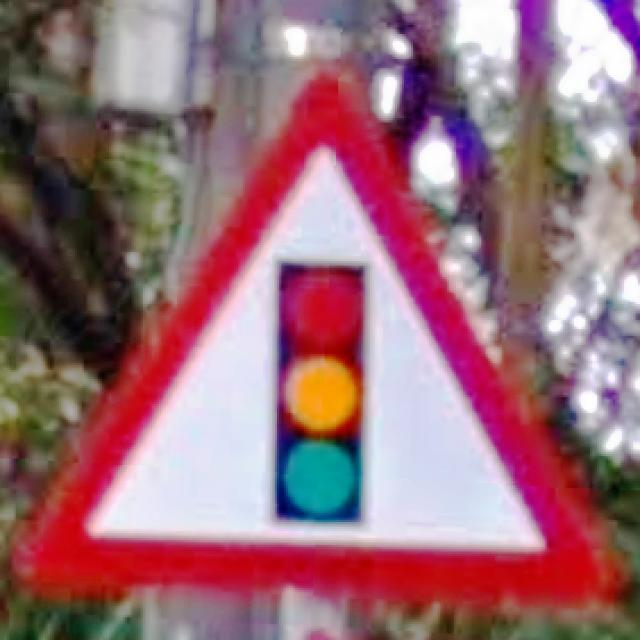signalahead: (11, 67, 611, 609)
